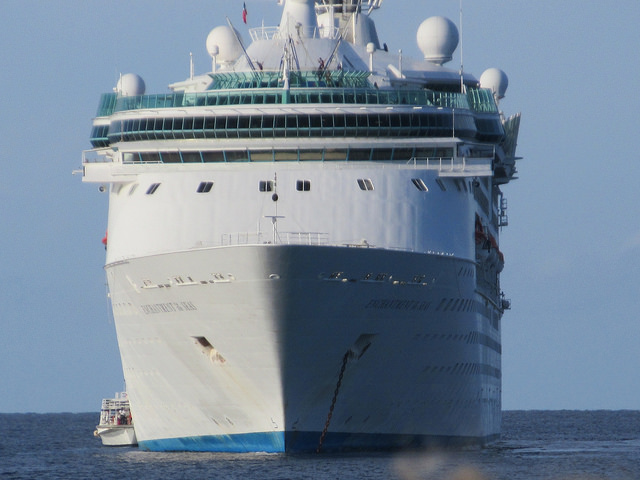boat: (88, 389, 137, 444)
cruise_ship: (79, 2, 522, 451)
